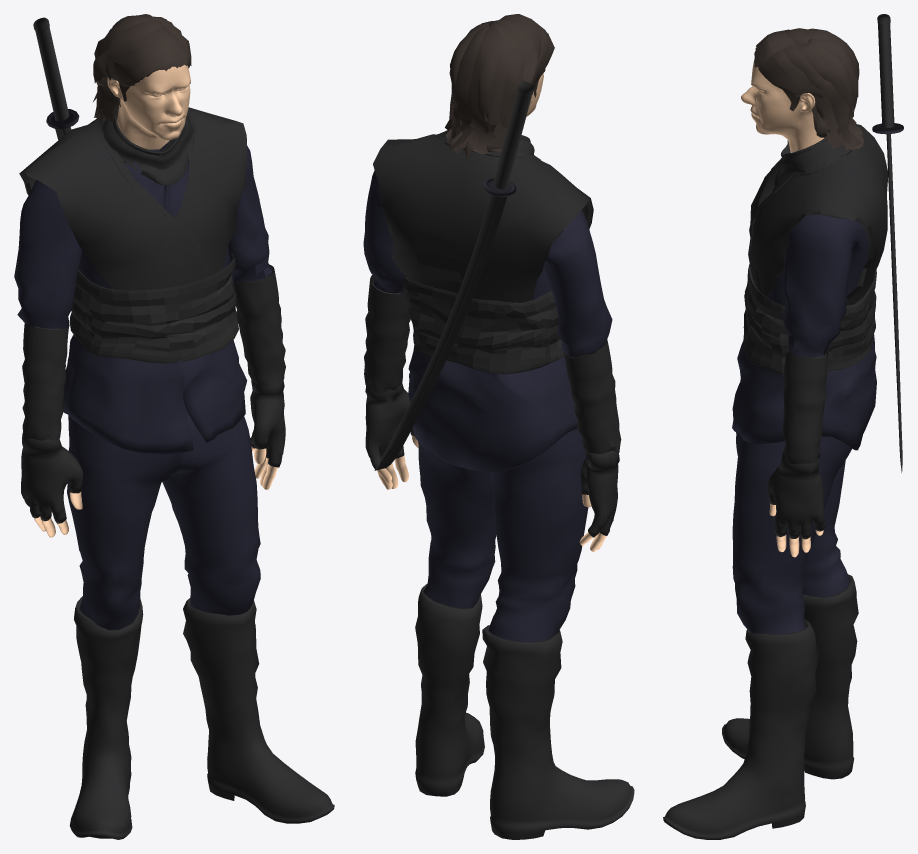
The model's file is model_orelsan.obj.
The picture shows the model from 3 angles, left to right: view 1: azimuth 30°, elevation 25°; view 2: azimuth 150°, elevation 25°; view 3: azimuth 270°, elevation 25°; orthographic projection. The views are drawn at different scales.
Parts seen in each view (by area): view 1: Tops.2, Bottoms, Shoes, Tops_dessus, ceinture, Gloves, Hair, Body, manche_gauche, manche_droite, Top_Scarf, katana.1 (+1 smaller); view 2: Shoes, Bottoms, Tops.2, Tops_dessus, Hair, ceinture, katana.1, Gloves, manche_gauche, manche_droite, fingers; view 3: Shoes, Tops.2, Bottoms, Tops_dessus, Hair, ceinture, manche_droite, Gloves, Body, katana.1, Top_Scarf, fingers.
Boxes of the visible parts, x1,y1,x2,y2 form: Tops.2: [14, 141, 272, 453]; Bottoms: [67, 403, 260, 630]; Shoes: [69, 596, 334, 839]; Tops_dessus: [19, 107, 246, 290]; ceinture: [69, 253, 238, 363]; Gloves: [21, 376, 285, 523]; Hair: [93, 14, 191, 122]; Body: [107, 65, 190, 149]; manche_gauche: [22, 322, 68, 440]; manche_droite: [233, 265, 285, 386]; Top_Scarf: [101, 106, 196, 185]; katana.1: [33, 17, 79, 139]; Shoes: [415, 583, 634, 839]; Bottoms: [418, 428, 588, 642]; Tops.2: [363, 170, 612, 472]; Tops_dessus: [373, 134, 593, 302]; Hair: [445, 14, 554, 158]; ceinture: [403, 275, 564, 374]; katana.1: [374, 81, 534, 470]; Gloves: [365, 383, 619, 537]; manche_gauche: [563, 340, 621, 454]; manche_droite: [364, 275, 410, 393]; fingers: [377, 435, 606, 552]; Shoes: [663, 574, 858, 839]; Tops.2: [732, 187, 876, 450]; Bottoms: [732, 432, 851, 633]; Tops_dessus: [748, 124, 888, 305]; Hair: [754, 28, 865, 150]; ceinture: [743, 264, 876, 374]; manche_droite: [782, 348, 828, 464]; Gloves: [768, 450, 825, 539]; Body: [741, 59, 823, 152]; katana.1: [872, 14, 903, 472]; Top_Scarf: [774, 138, 843, 186]; fingers: [769, 503, 823, 557].
Bounding box in the file's own units: 60.97 × 179 × 51.96.
